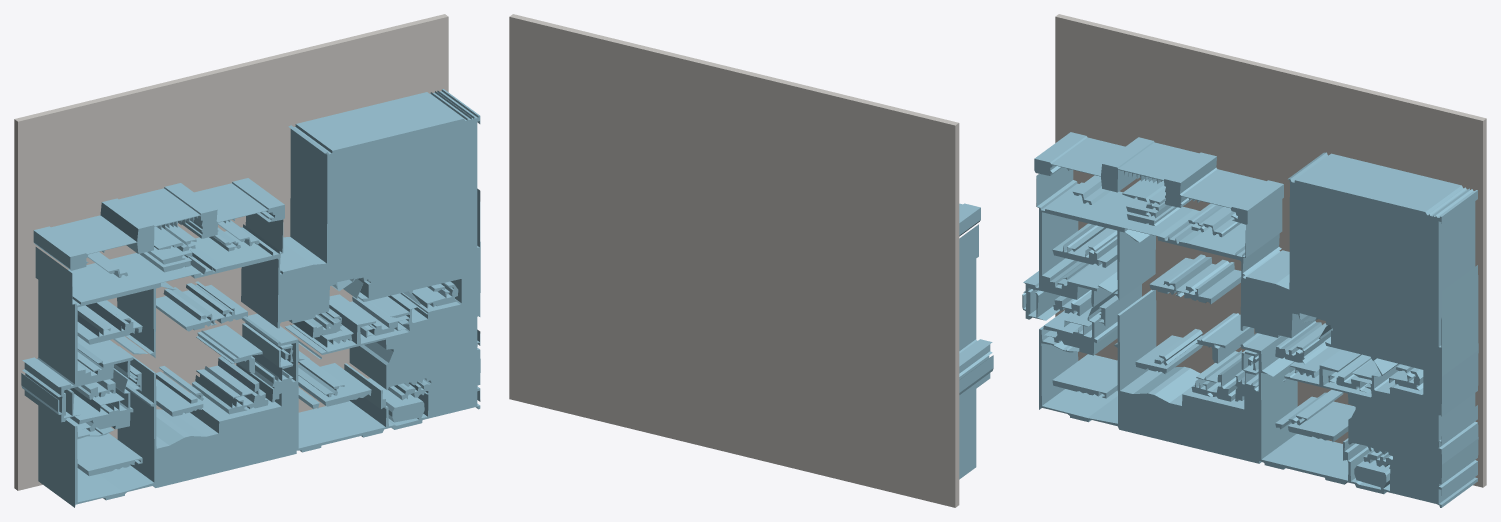
3 views of the same model, side by side, from view 1: azimuth 30°, elevation 25°; view 2: azimuth 150°, elevation 25°; view 3: azimuth 330°, elevation 25° (orthographic). The views are drawn at different scales.
Parts seen in each view (by area): view 1: world; view 2: world; view 3: world.
Boxes of the visible parts, x1,y1,x2,y2 form: world: (14,14,480,507); world: (509,14,993,507); world: (1022,14,1486,507).
Size of the model in its own units: 10.23 by 8.38 by 1.66.
